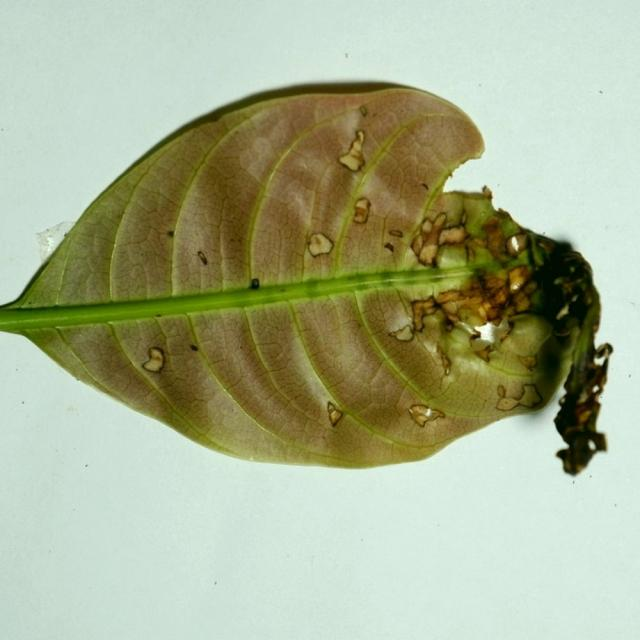Anthracnose: (183, 309, 335, 455), (107, 314, 216, 439), (408, 329, 544, 418), (109, 164, 196, 295), (235, 126, 295, 185), (397, 317, 448, 375), (300, 226, 339, 274), (410, 403, 446, 428), (435, 243, 466, 269), (383, 228, 405, 256), (457, 306, 485, 328), (451, 153, 475, 178), (466, 241, 491, 264), (338, 151, 364, 172), (353, 197, 371, 224), (388, 323, 414, 341), (555, 299, 573, 322), (469, 333, 491, 351), (498, 322, 515, 343), (411, 234, 424, 259), (431, 212, 447, 230), (421, 218, 434, 234), (355, 130, 365, 144), (388, 229, 403, 238), (471, 149, 482, 160), (461, 210, 467, 226), (446, 170, 455, 180), (420, 183, 429, 191)
Mango: (0, 81, 611, 472)
